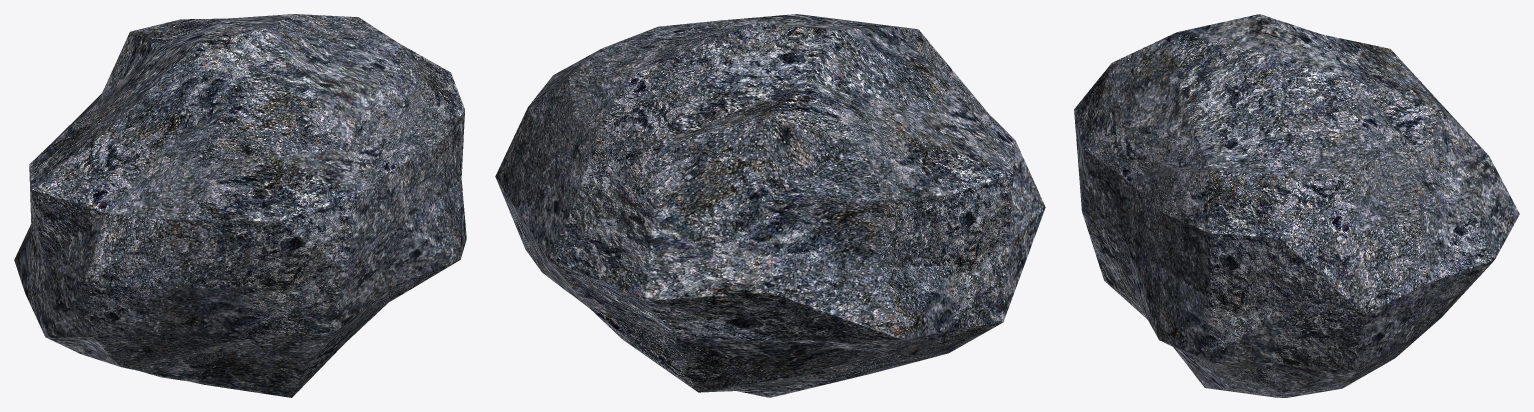
Rendered from asteroid_iron_large_s02_l1.fbx.
3 renders of one model, left to right at view 1: azimuth 30°, elevation 25°; view 2: azimuth 150°, elevation 25°; view 3: azimuth 270°, elevation 25°, orthographic. The views are drawn at different scales.
Parts seen in each view (by area): view 1: mesh_node; view 2: mesh_node; view 3: mesh_node.
Part boxes in pixels (<box>): mesh_node: <box>14,14,466,397</box>; mesh_node: <box>495,14,1045,397</box>; mesh_node: <box>1074,14,1519,397</box>.
Bounding box in the file's own units: 106 × 82.89 × 93.68.
